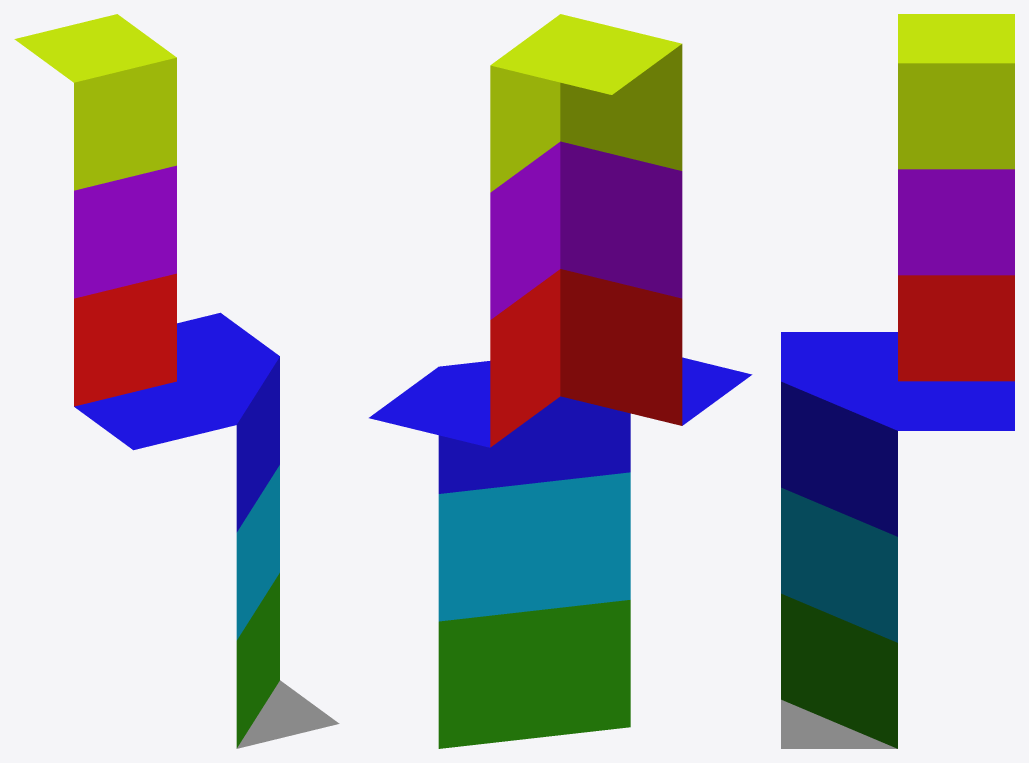
The picture shows the model from 3 angles, left to right: view 1: azimuth 30°, elevation 25°; view 2: azimuth 150°, elevation 25°; view 3: azimuth 270°, elevation 25°; orthographic projection. The views are drawn at different scales.
Visible parts, largest first — view 1: T_222777_0_0; view 2: T_222777_0_0; view 3: T_222777_0_0.
Boxes of the visible parts, x1,y1,x2,y2 form: T_222777_0_0: (14,14,339,748); T_222777_0_0: (369,14,752,748); T_222777_0_0: (781,14,1014,748).
Size of the model in its own units: 99.79 by 299 by 99.81.
